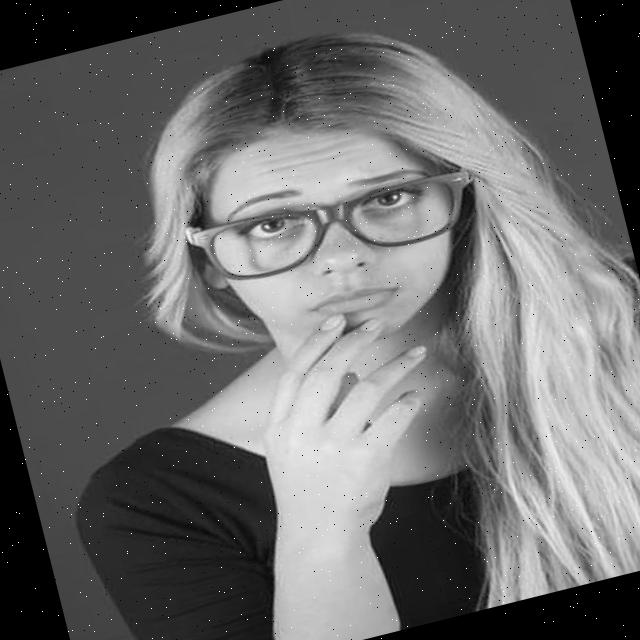Sadness: (202, 105, 473, 372)
